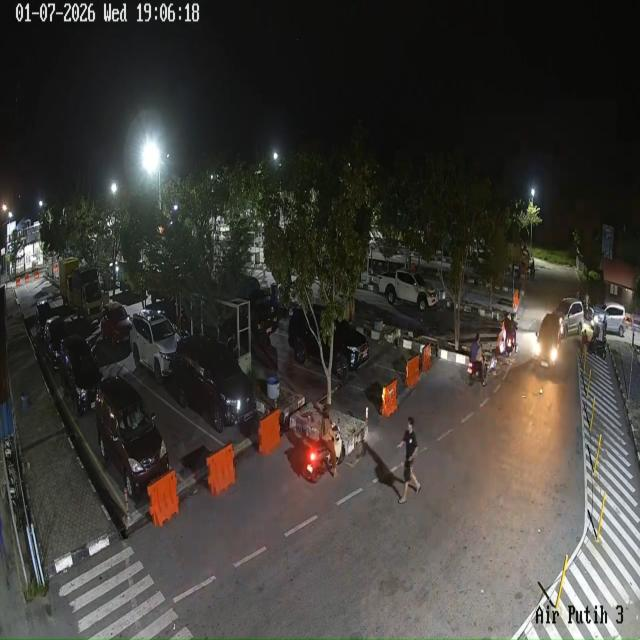Golongan IVA: (96, 376, 170, 500), (172, 336, 256, 432), (288, 305, 369, 380), (130, 309, 179, 384), (60, 334, 103, 417), (534, 313, 562, 367), (101, 301, 131, 347), (44, 316, 68, 370), (554, 297, 584, 338), (592, 303, 626, 337), (36, 300, 53, 340)
Golongan IVB: (378, 270, 438, 311)
Golongan VB: (59, 258, 108, 322)
